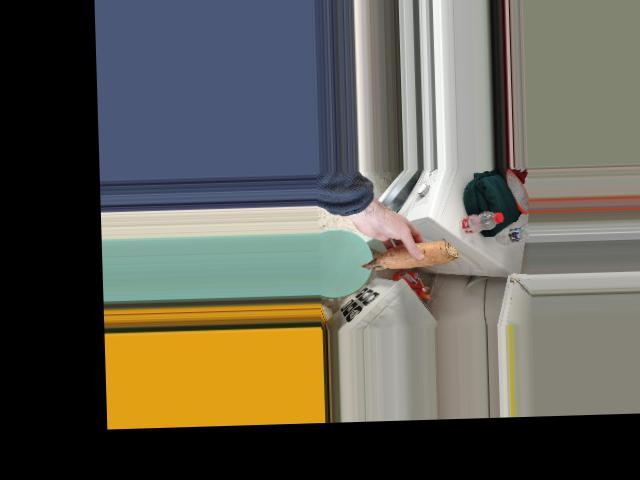sweet_potato: (362, 241, 452, 269)
